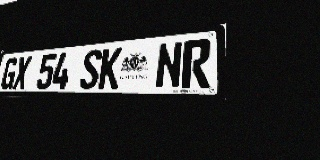4: (51, 52, 73, 89)
5: (35, 53, 57, 89)
G: (0, 57, 19, 90)
K: (98, 47, 123, 89)
N: (155, 41, 183, 89)
R: (181, 38, 211, 88)
S: (79, 49, 103, 89)
X: (12, 56, 32, 90)
